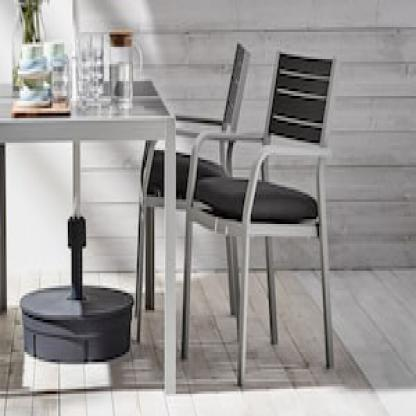table: (0, 66, 179, 414)
